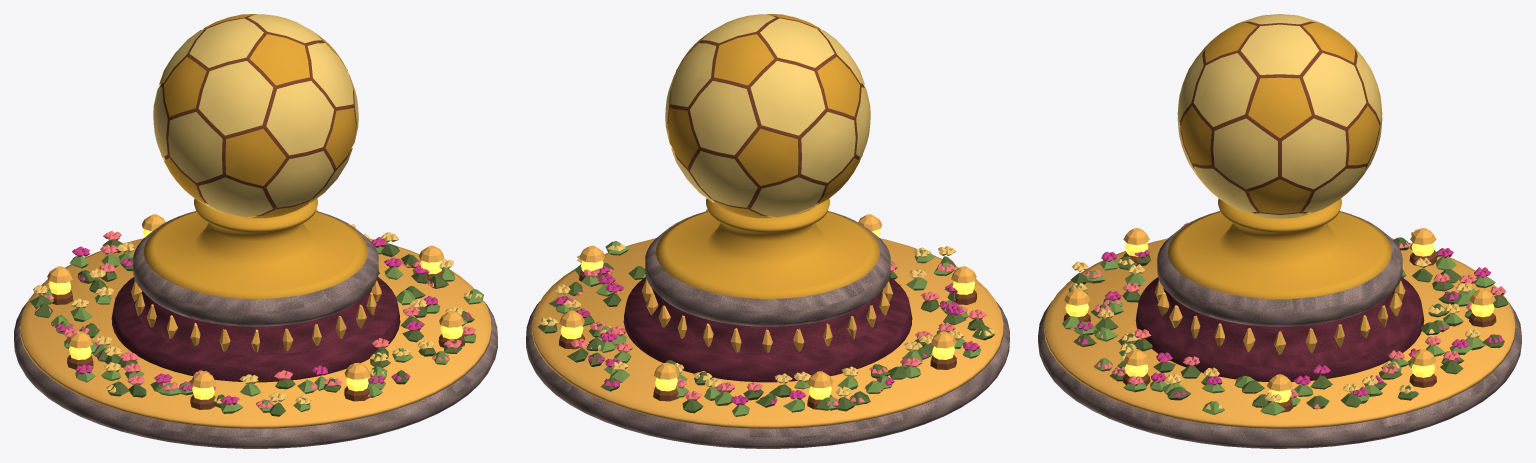
The model's file is golden-ball-garden.glb.
The picture shows the model from 3 angles, left to right: view 1: azimuth 30°, elevation 25°; view 2: azimuth 150°, elevation 25°; view 3: azimuth 270°, elevation 25°; orthographic projection.
Parts seen in each view (by area): view 1: golden-ball-garden · Polished edges, golden-ball-garden · Brushed trophy gold, golden-ball-garden · Pale gold panels, golden-ball-garden · Warm travertine, golden-ball-garden · Plinth garnet, golden-ball-garden · Recessed bronze seams, golden-ball-garden · Planter · light, golden-ball-garden · Planter · green, golden-ball-garden · Garden · gold, golden-ball-garden · Garden · coral, golden-ball-garden · Garden · magenta, golden-ball-garden · Plinth lanterns; view 2: golden-ball-garden · Polished edges, golden-ball-garden · Brushed trophy gold, golden-ball-garden · Pale gold panels, golden-ball-garden · Warm travertine, golden-ball-garden · Plinth garnet, golden-ball-garden · Recessed bronze seams, golden-ball-garden · Planter · green, golden-ball-garden · Planter · light, golden-ball-garden · Garden · gold, golden-ball-garden · Garden · coral, golden-ball-garden · Garden · magenta, golden-ball-garden · Plinth lanterns; view 3: golden-ball-garden · Polished edges, golden-ball-garden · Brushed trophy gold, golden-ball-garden · Pale gold panels, golden-ball-garden · Warm travertine, golden-ball-garden · Plinth garnet, golden-ball-garden · Recessed bronze seams, golden-ball-garden · Planter · green, golden-ball-garden · Planter · light, golden-ball-garden · Garden · gold, golden-ball-garden · Garden · magenta, golden-ball-garden · Garden · coral, golden-ball-garden · Plinth lanterns.
Boxes of the visible parts, x1,y1,x2,y2 form: golden-ball-garden · Polished edges: (20,209,491,428); golden-ball-garden · Brushed trophy gold: (144,14,367,298); golden-ball-garden · Pale gold panels: (153,14,358,217); golden-ball-garden · Warm travertine: (14,211,497,448); golden-ball-garden · Plinth garnet: (111,277,400,382); golden-ball-garden · Recessed bronze seams: (52,16,464,409); golden-ball-garden · Planter · light: (43,245,483,413); golden-ball-garden · Planter · green: (30,240,474,416); golden-ball-garden · Garden · gold: (33,224,481,404); golden-ball-garden · Garden · coral: (35,231,475,408); golden-ball-garden · Garden · magenta: (56,237,470,405); golden-ball-garden · Plinth lanterns: (48,229,463,399); golden-ball-garden · Polished edges: (532,209,1003,428); golden-ball-garden · Brushed trophy gold: (656,14,879,298); golden-ball-garden · Pale gold panels: (665,14,870,217); golden-ball-garden · Warm travertine: (526,211,1009,448); golden-ball-garden · Plinth garnet: (623,277,912,382); golden-ball-garden · Recessed bronze seams: (559,16,976,409); golden-ball-garden · Planter · green: (537,256,994,413); golden-ball-garden · Planter · light: (555,241,981,416); golden-ball-garden · Garden · gold: (540,244,994,396); golden-ball-garden · Garden · coral: (570,262,986,406); golden-ball-garden · Garden · magenta: (555,265,979,405); golden-ball-garden · Plinth lanterns: (560,229,975,399); golden-ball-garden · Polished edges: (1044,228,1515,428); golden-ball-garden · Brushed trophy gold: (1168,23,1391,298); golden-ball-garden · Pale gold panels: (1177,14,1382,218); golden-ball-garden · Warm travertine: (1038,211,1521,448); golden-ball-garden · Plinth garnet: (1135,277,1424,381); golden-ball-garden · Recessed bronze seams: (1063,21,1496,412); golden-ball-garden · Planter · green: (1070,237,1508,408); golden-ball-garden · Planter · light: (1062,250,1495,415); golden-ball-garden · Garden · gold: (1070,229,1480,409); golden-ball-garden · Garden · magenta: (1077,248,1503,397); golden-ball-garden · Garden · coral: (1070,222,1506,409); golden-ball-garden · Plinth lanterns: (1065,243,1494,402).
Bounding box in the file's own units: 6.54 × 4.83 × 6.54.
13 materials, 2 textured.
